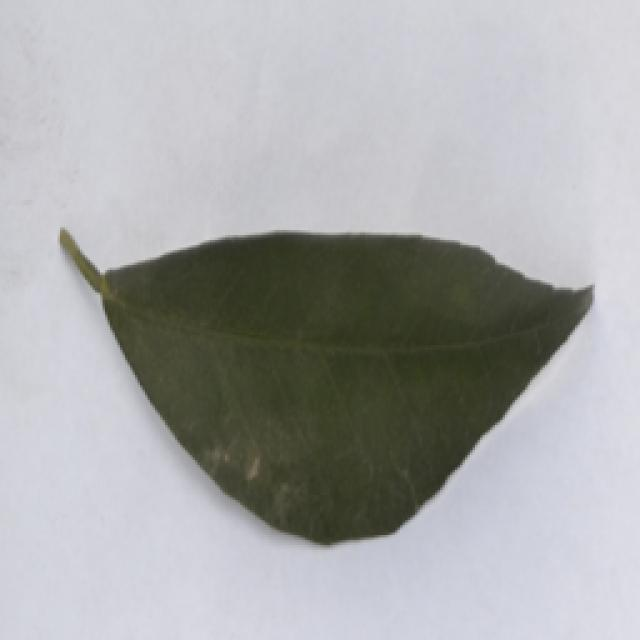healthy: (48, 204, 602, 553)
